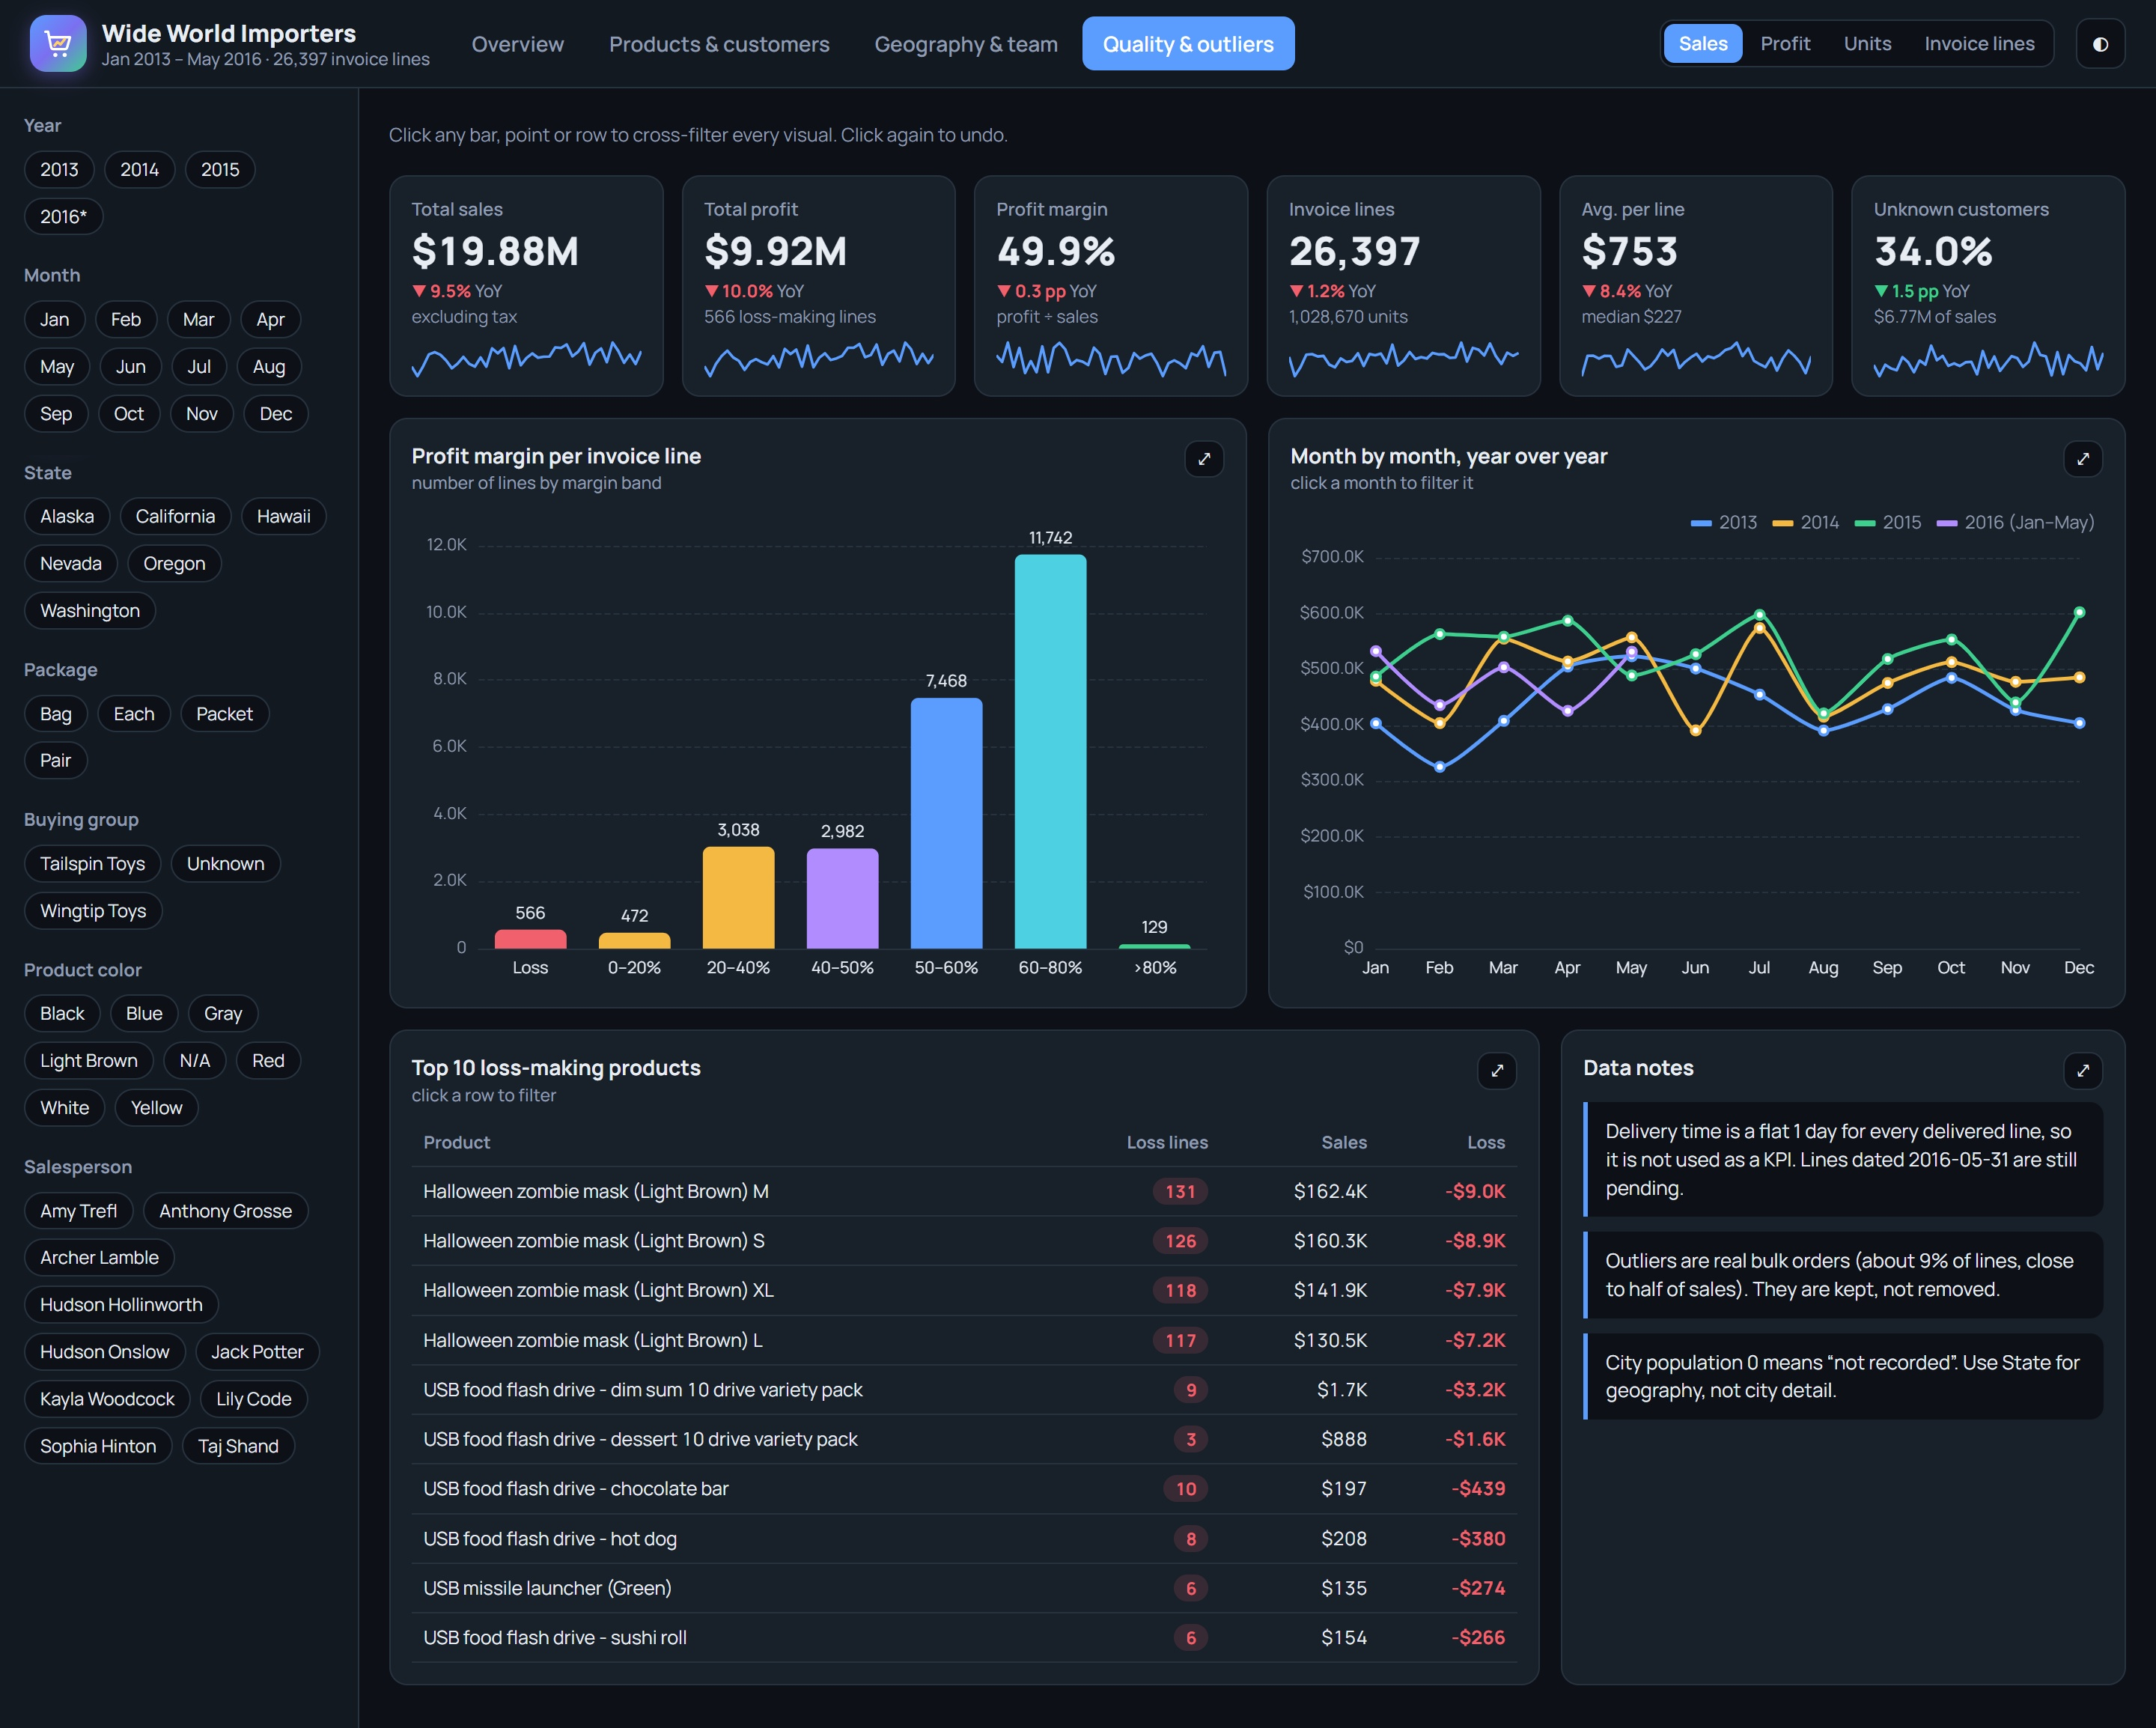

This screenshot's page, from the dashboard's own definition file:
{"tool":"powerbi","page":{"name":"Outliers & Quality","canvas":[1920,1080],"ordinal":3},"visuals":[{"type":"shape","title":"Filters","box":[0,101.9,382.1,977.5],"z":0,"group":"g2"},{"type":"tableEx","title":"Loss Products","fields":{"Values":["DimStockItem.Stock Item","FactSale.Loss Lines","FactSale.Total Loss"]},"box":[405,102.5,637.5,802.5],"z":0},{"type":"scatterChart","title":"Sum of Quantity and Sum of Profit by Stock Item","fields":{"Category":["DimStockItem.Stock Item"],"X":["Sum(FactSale.Quantity)"],"Y":["Sum(FactSale.Profit)"]},"box":[1065,102.5,832.5,390],"z":1000},{"type":"advancedSlicerVisual","title":"State Province","fields":{"Values":["DimCity.State Province"]},"box":[22.3,493.5,337.5,181.5],"z":1000,"group":"g2"},{"type":"group","id":"g1","title":"Group 2","box":[0,0,1920,95.5],"z":2000},{"type":"advancedSlicerVisual","title":"Years","fields":{"Values":["DimDate.Calendar Year"]},"box":[22.3,159.2,337.5,105.1],"z":2000,"group":"g2"},{"type":"group","id":"g2","title":"Group 3","box":[0,101.9,382.1,977.5],"z":3000},{"type":"advancedSlicerVisual","title":"Month","fields":{"Values":["DimDate.Short Month"]},"box":[22.3,283.4,337.5,187.9],"z":3000,"group":"g2"},{"type":"clusteredColumnChart","title":"YoY Comparison","fields":{"Category":["DimDate.Short Month"],"Series":["DimDate.Calendar Year"],"Y":["FactSale.Total Sales"]},"box":[1055.5,515.2,841.9,389.5],"z":4000},{"type":"shape","box":[439.8,7.5,469.9,77.9],"z":5000},{"type":"advancedSlicerVisual","fields":{"Values":["DimCustomer.Buying Group"]},"box":[25.5,811.9,334.3,92.3],"z":5000,"group":"g2"},{"type":"shape","box":[937.4,7.5,469.9,77.9],"z":6000},{"type":"advancedSlicerVisual","title":"Package","fields":{"Values":["FactSale.Package"]},"box":[22.3,694.1,337.5,98.7],"z":6000,"group":"g2"},{"type":"shape","box":[0,0,1920,95.5],"z":7000,"group":"g1"},{"type":"shape","box":[1427.4,7.5,469.9,77.9],"z":7000},{"type":"image","box":[3.2,12.7,382.1,73.2],"z":8000,"group":"g1"}]}

Visuals, with their boxes on the page's 1920x1080 design canvas (x1, y1, x2, y2). These are canvas units, not pixel positions in the 2156x1728 screenshot, which may show the page scaled, cropped or inside an application window:
"Filters" shape: bbox=[0, 102, 382, 1079]
"Loss Products" tableEx: bbox=[405, 102, 1042, 905]
"Sum of Quantity and Sum of Profit by Stock Item" scatterChart: bbox=[1065, 102, 1898, 492]
"State Province" advancedSlicerVisual: bbox=[22, 494, 360, 675]
"Group 2" group: bbox=[0, 0, 1920, 96]
"Years" advancedSlicerVisual: bbox=[22, 159, 360, 264]
"Group 3" group: bbox=[0, 102, 382, 1079]
"Month" advancedSlicerVisual: bbox=[22, 283, 360, 471]
"YoY Comparison" clusteredColumnChart: bbox=[1056, 515, 1897, 905]
shape: bbox=[440, 8, 910, 85]
advancedSlicerVisual - DimCustomer.Buying Group: bbox=[26, 812, 360, 904]
shape: bbox=[937, 8, 1407, 85]
"Package" advancedSlicerVisual: bbox=[22, 694, 360, 793]
shape: bbox=[0, 0, 1920, 96]
shape: bbox=[1427, 8, 1897, 85]
image: bbox=[3, 13, 385, 86]
